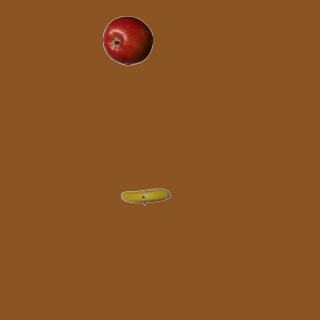Apple Braeburn: (102, 15, 152, 65)
Banana: (120, 171, 170, 221)
